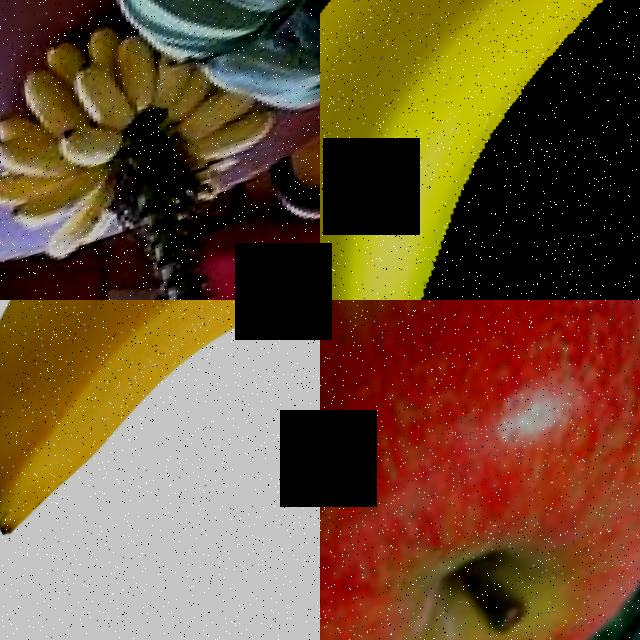apple: (320, 300, 640, 640)
banana: (0, 300, 320, 640), (320, 0, 640, 300), (112, 0, 271, 79), (204, 24, 320, 130), (13, 59, 94, 147), (185, 121, 290, 181), (112, 28, 174, 129), (63, 113, 139, 186), (5, 175, 104, 231), (0, 125, 71, 203), (46, 209, 131, 266), (82, 73, 147, 137), (187, 97, 260, 140), (155, 62, 195, 120), (175, 89, 220, 118)
